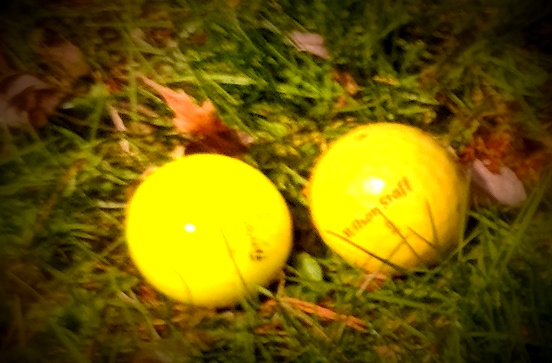ball: (126, 154, 296, 313)
